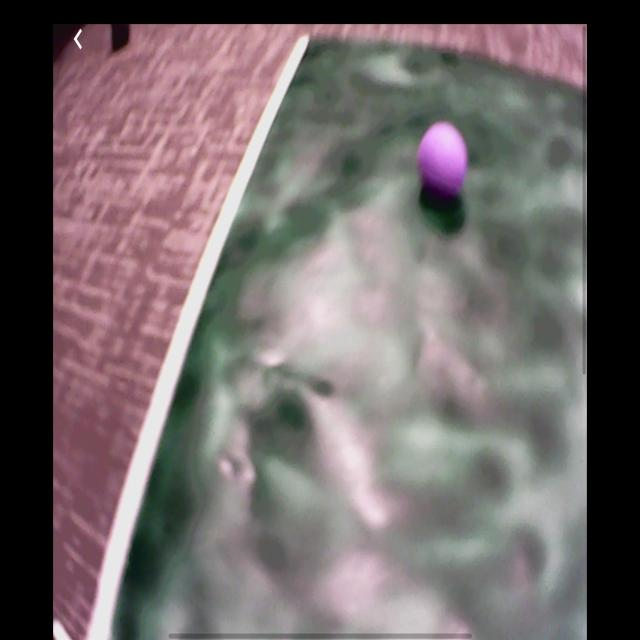ball: (420, 123, 467, 197)
